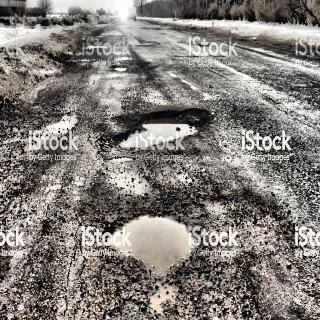pothole: (107, 208, 198, 282), (106, 106, 211, 156), (104, 152, 156, 200), (43, 109, 79, 138), (112, 63, 129, 75)
